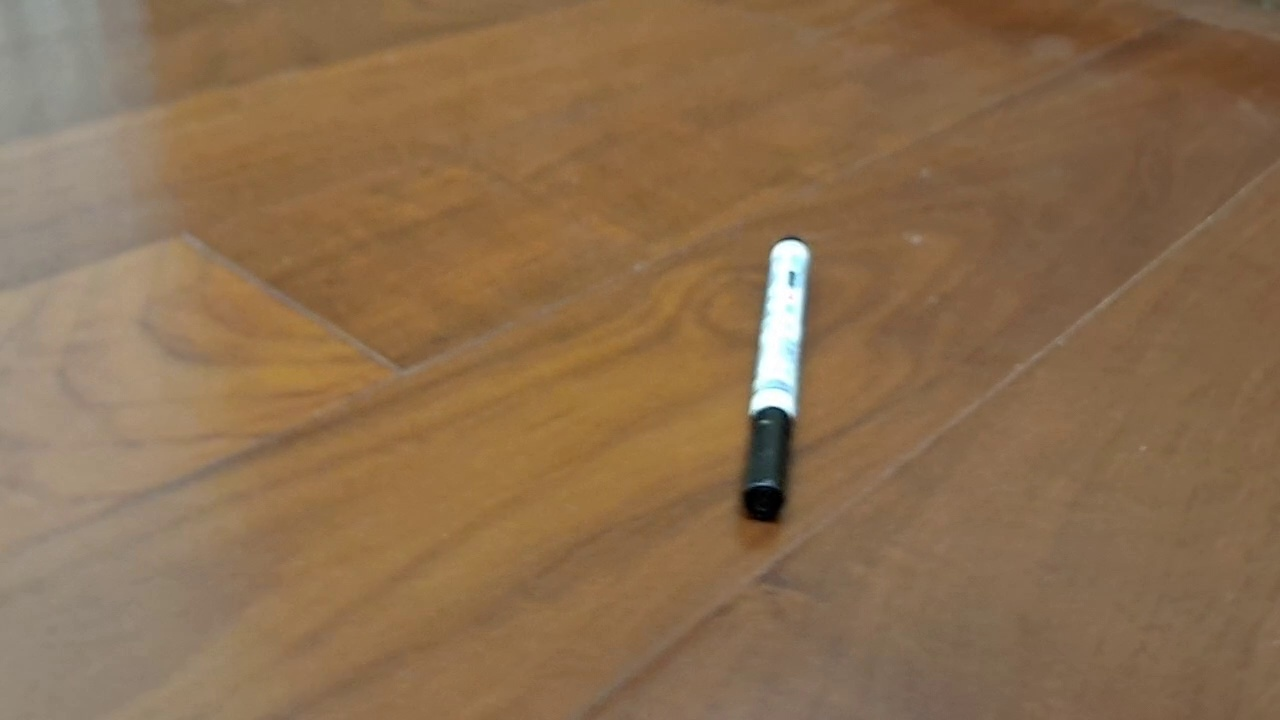pen: (742, 236, 813, 524)
